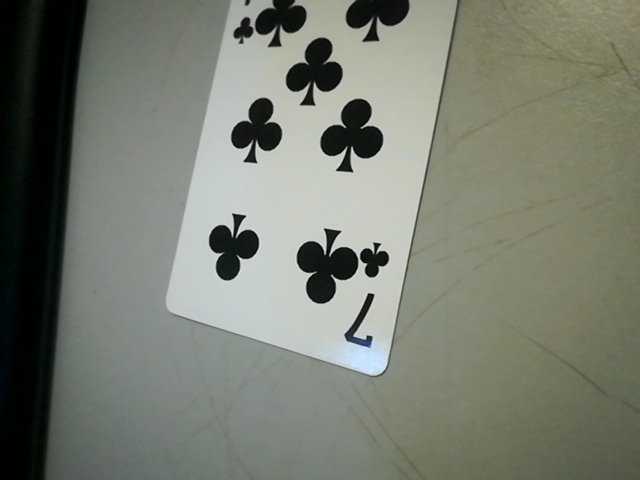mh 7: (349, 240, 394, 362)
